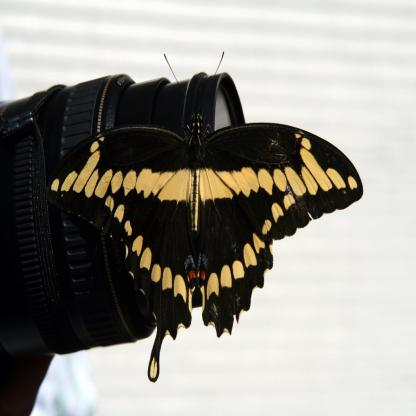Giant Swallowtail: (46, 52, 404, 380)
